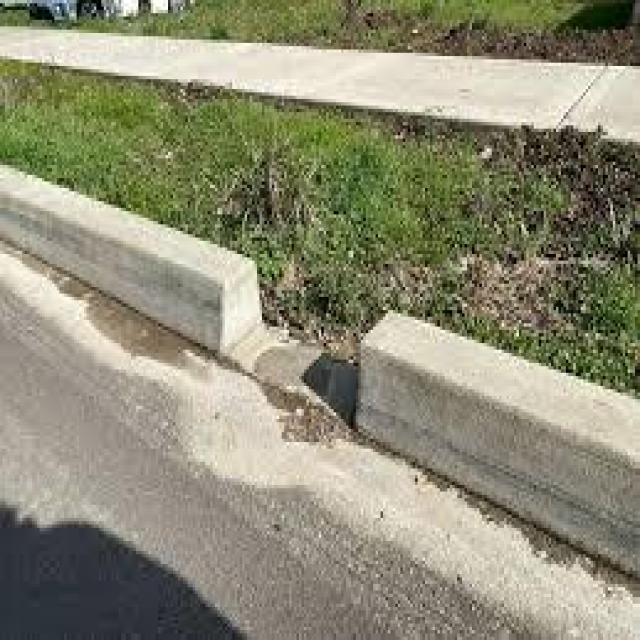curb: (363, 308, 640, 580), (2, 176, 243, 357)
